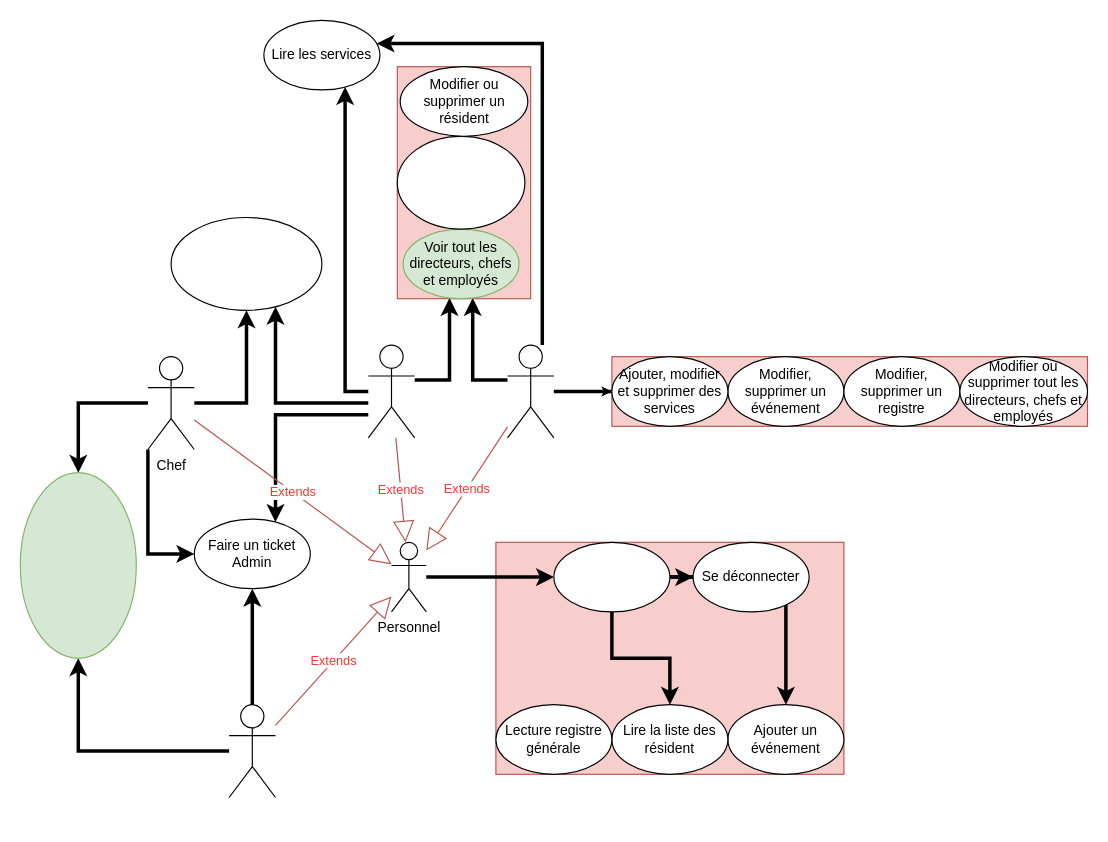
The diagram is 1108 pixels wide and 842 high, and some of its shapes have lost their labels. Each missing label, with the centre of its shape:
Admin: (530,391)
Ajouter, modifier et supprimer des visites: (460,182)
Directeur: (391,391)
Employé: (252,751)
Lire les reunions, modifier et supprimmer ses réunions: (246,263)
Se connecter: (611,576)
Voir les employés de son propre service: (77,565)
